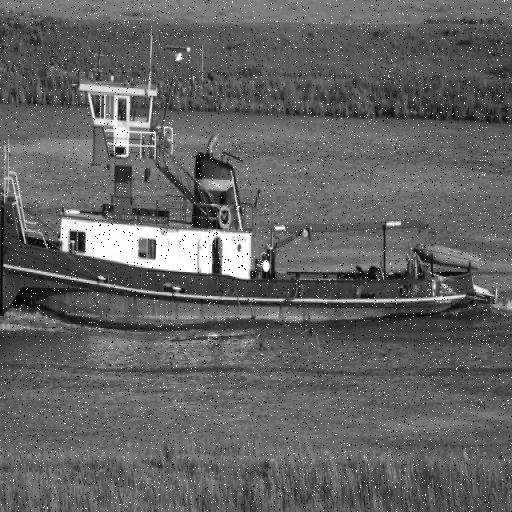tugboat: (1, 41, 499, 345)
